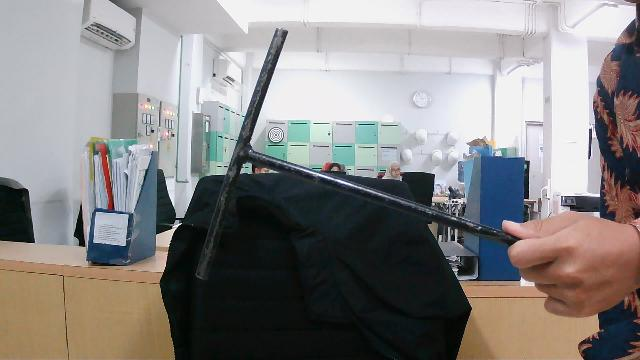kunci_t: (168, 13, 538, 295)
